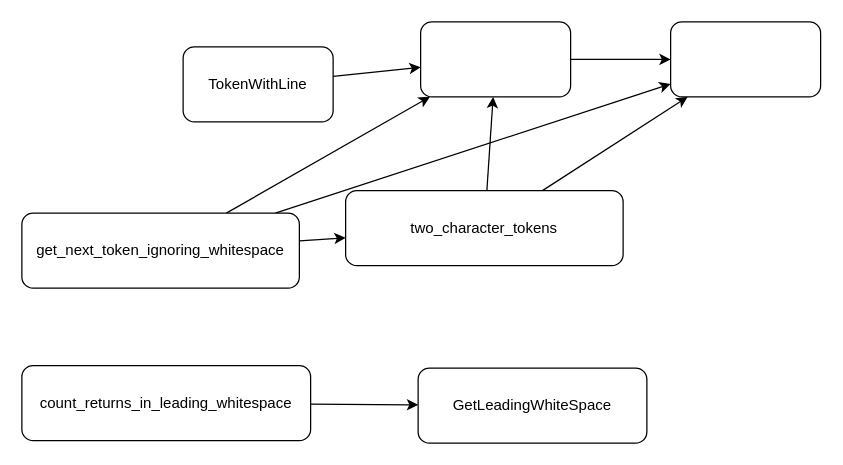
Image size: 843x465. Some labels were removed from this diagram. The shapes that lost their labels are listed below. From the top down, each one's box as (x1, y1, x2, y2) in pixels, then its label:
(419, 21, 571, 97): Token
(669, 21, 821, 97): TokenType
